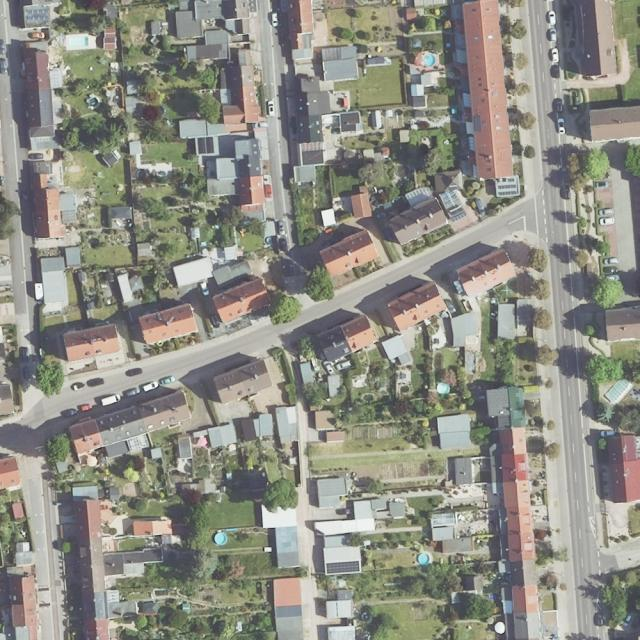PV: (326, 561, 359, 574), (497, 177, 516, 196), (27, 8, 49, 21), (442, 190, 457, 207), (451, 212, 466, 222)
ST: (474, 115, 481, 131), (449, 185, 457, 190)
